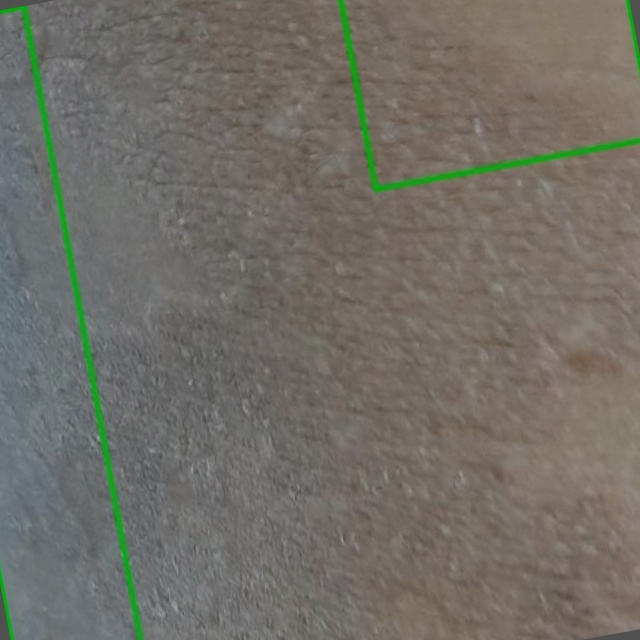Tinea Corporis: (341, 0, 639, 189)
